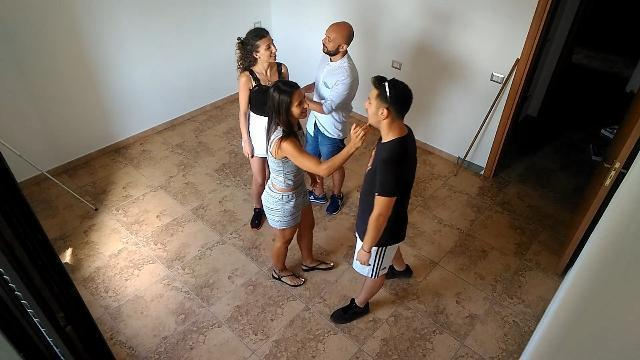non-violence: (234, 20, 360, 222)
violence: (260, 75, 418, 330)
